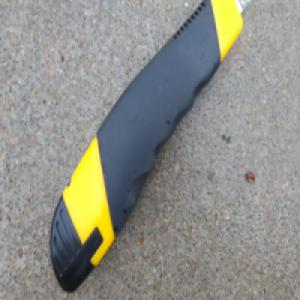Cutter: (50, 0, 252, 292)
